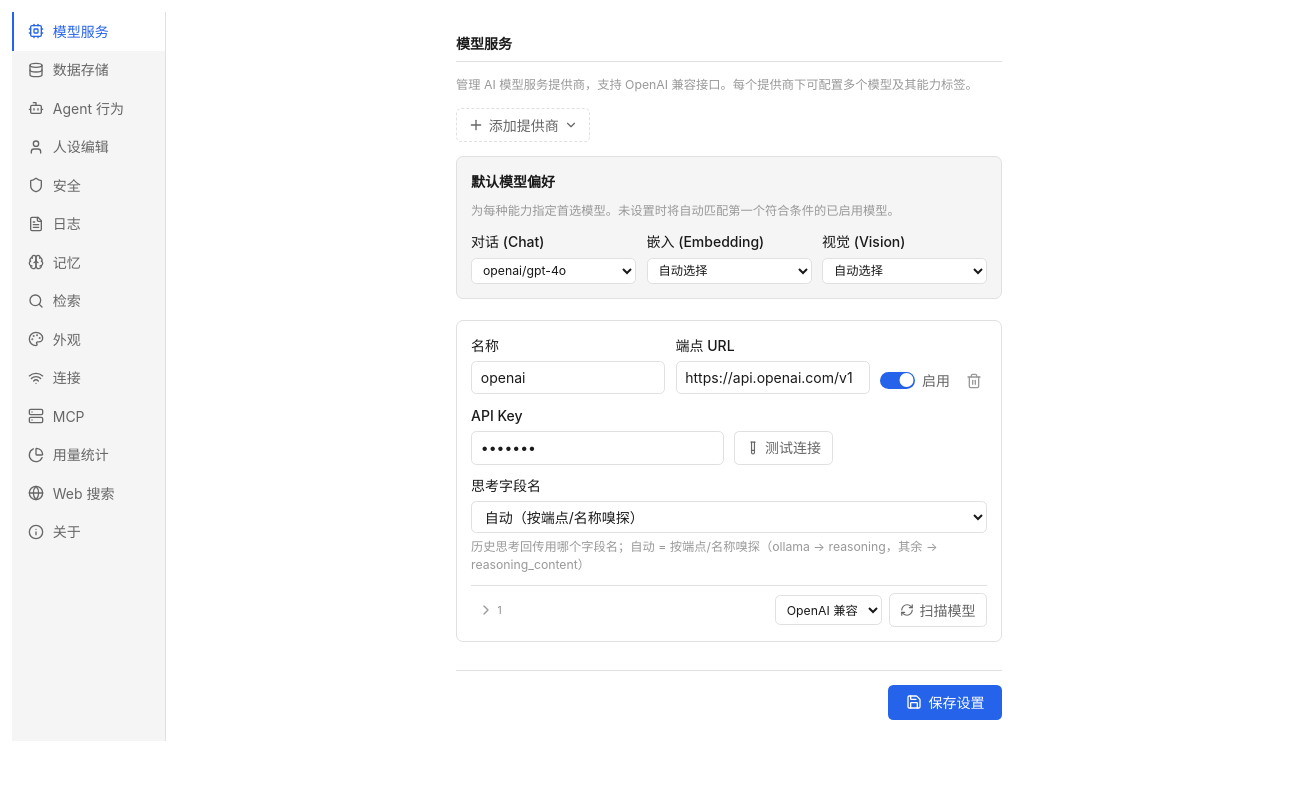
Test: SettingsPanel tabs › refreshes resolved spec rows after save (bugfix: stale 生效规格 after PUT /config)
This screenshot has width=1292, height=810.
Click the button "1" at (490, 610), box 471,597 -> 509,623
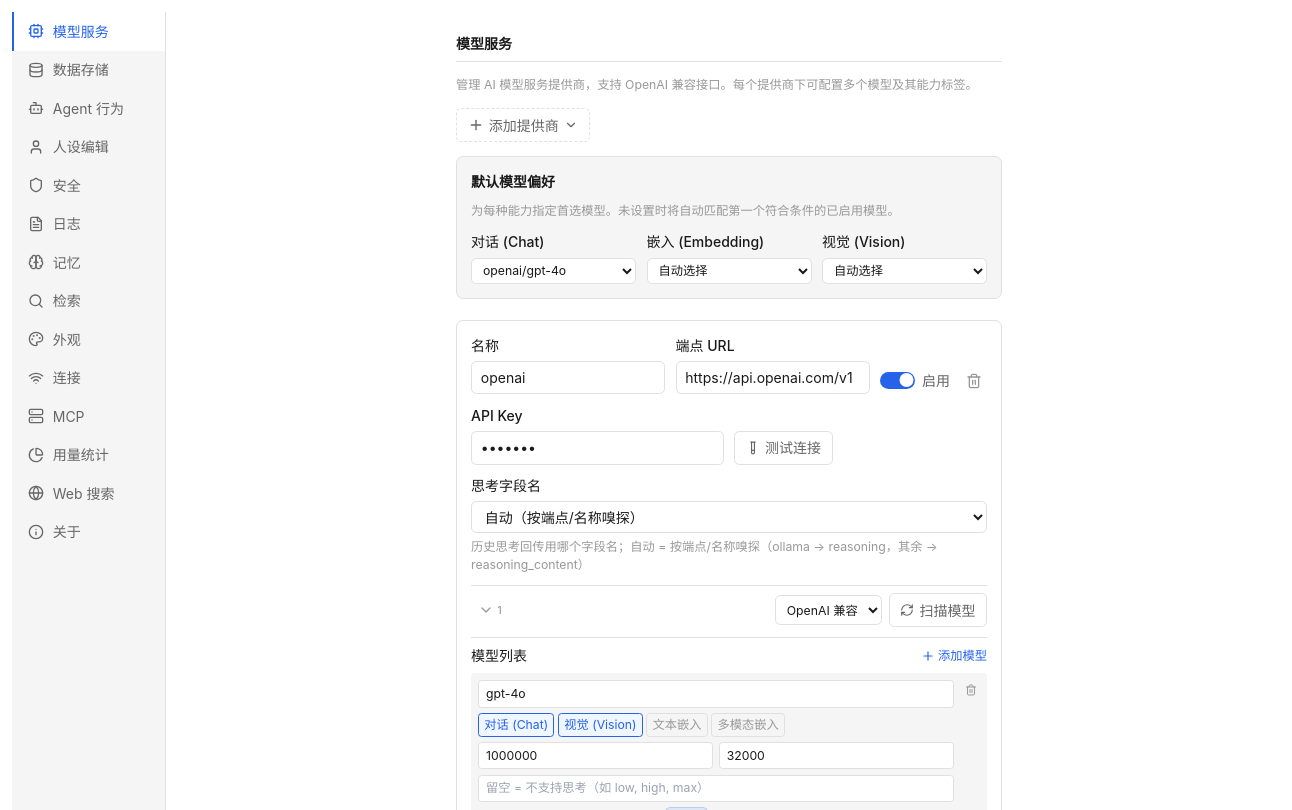
Result: the field showing "gpt-4o" below "模型列表" is shown at 478,680 -> 954,708
Replace the text in the number field named "最大输出" with "384000" at (836, 756), box 719,742 -> 954,769
(page scrolled)
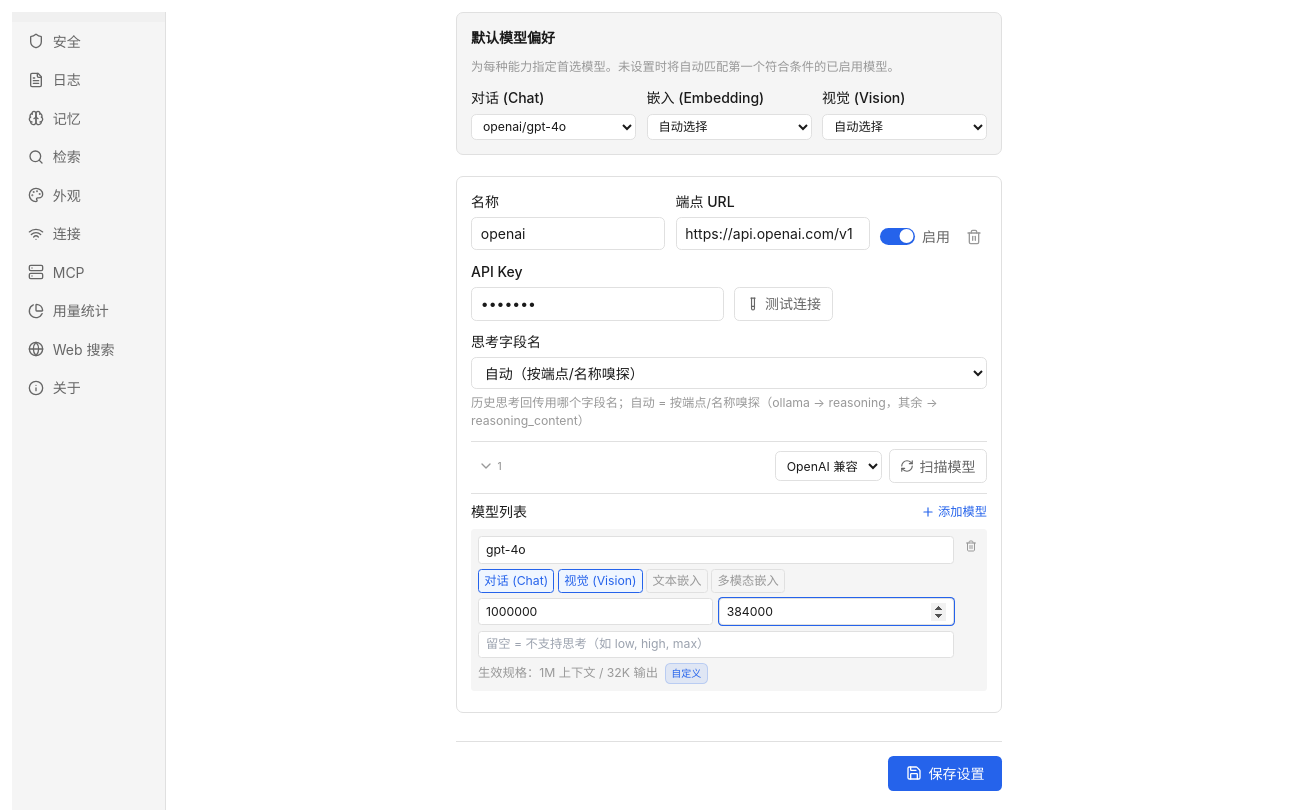
Click the button "保存设置" at (945, 773), box 888,756 -> 1002,791
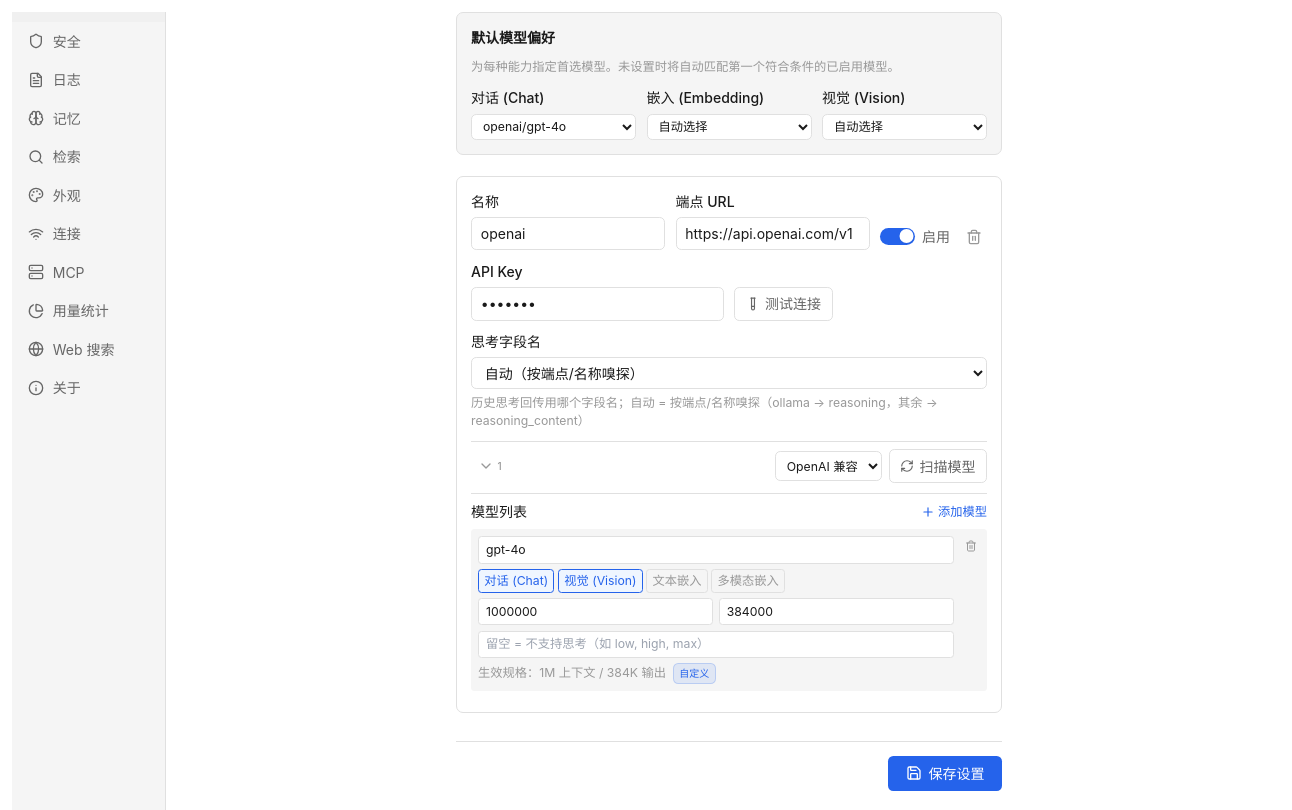
Result: the text "生效规格：1M 上下文 / 384K 输出" is shown at 478,664 -> 666,683
